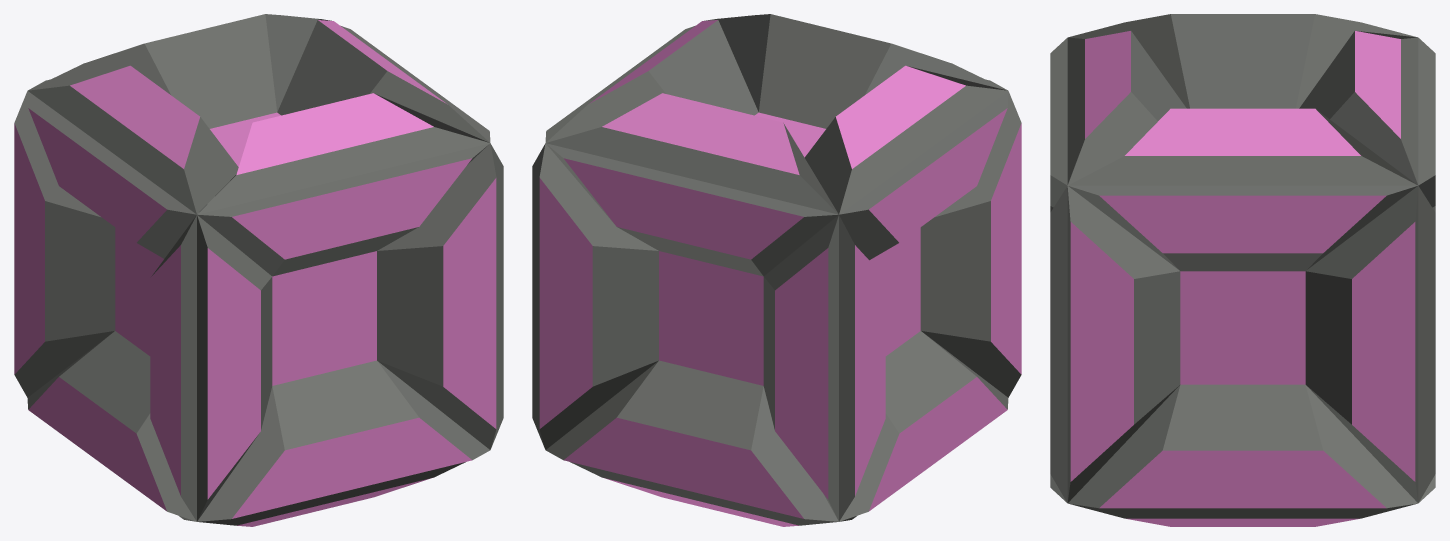
Rendered from PrismaraEssence.fbx.
3 renders of one model, left to right at view 1: azimuth 30°, elevation 25°; view 2: azimuth 150°, elevation 25°; view 3: azimuth 270°, elevation 25°, orthographic. The views are drawn at different scales.
Visible parts, largest first — view 1: Cube; view 2: Cube; view 3: Cube.
Boxes of the visible parts, x1,y1,x2,y2 form: Cube: (14, 14, 503, 526); Cube: (532, 14, 1021, 526); Cube: (1050, 14, 1435, 526).
Bounding box in the file's own units: 177 × 212 × 177.
